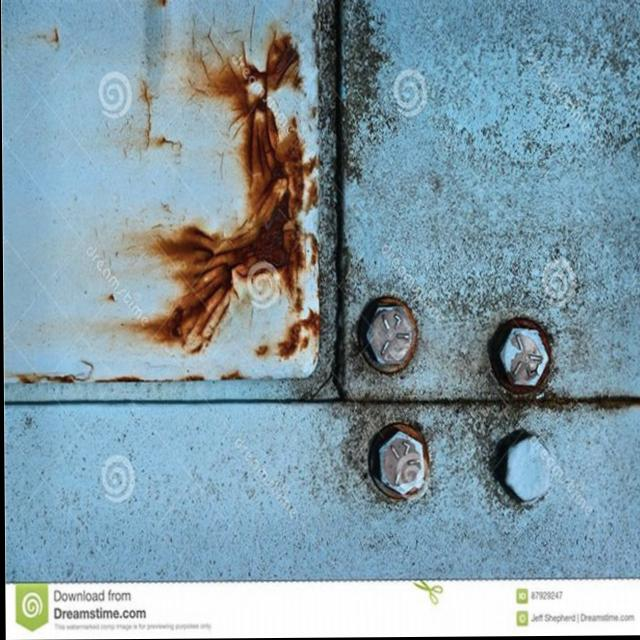Regular bolt: (502, 437, 553, 505), (364, 305, 413, 370), (497, 330, 548, 391), (375, 436, 424, 498)
